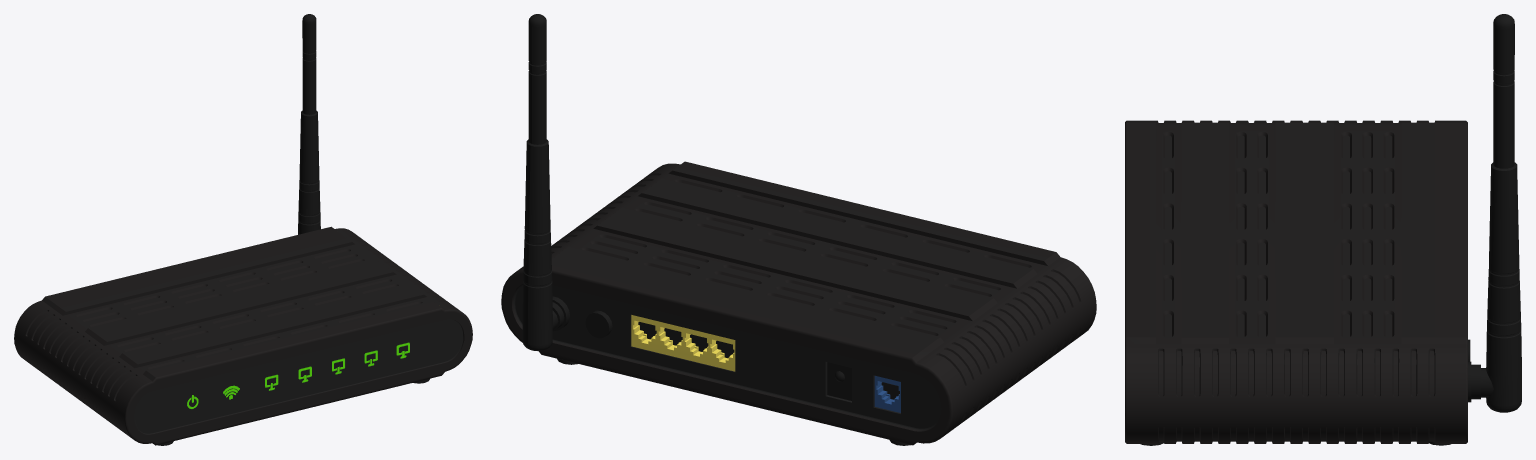
The model's file is router.glb.
The picture shows the model from 3 angles, left to right: view 1: azimuth 30°, elevation 25°; view 2: azimuth 150°, elevation 25°; view 3: azimuth 270°, elevation 25°; orthographic projection. The views are drawn at different scales.
Parts seen in each view (by area): view 1: wifi_router.1; view 2: wifi_router.1; view 3: wifi_router.1.
Boxes of the visible parts, x1=… form: wifi_router.1: x1=14, y1=14, x2=472, y2=445; wifi_router.1: x1=501, y1=14, x2=1096, y2=445; wifi_router.1: x1=1125, y1=14, x2=1521, y2=445.
Bounding box in the file's own units: 0.1996 × 0.1525 × 0.1283.
1 material, 1 textured.
